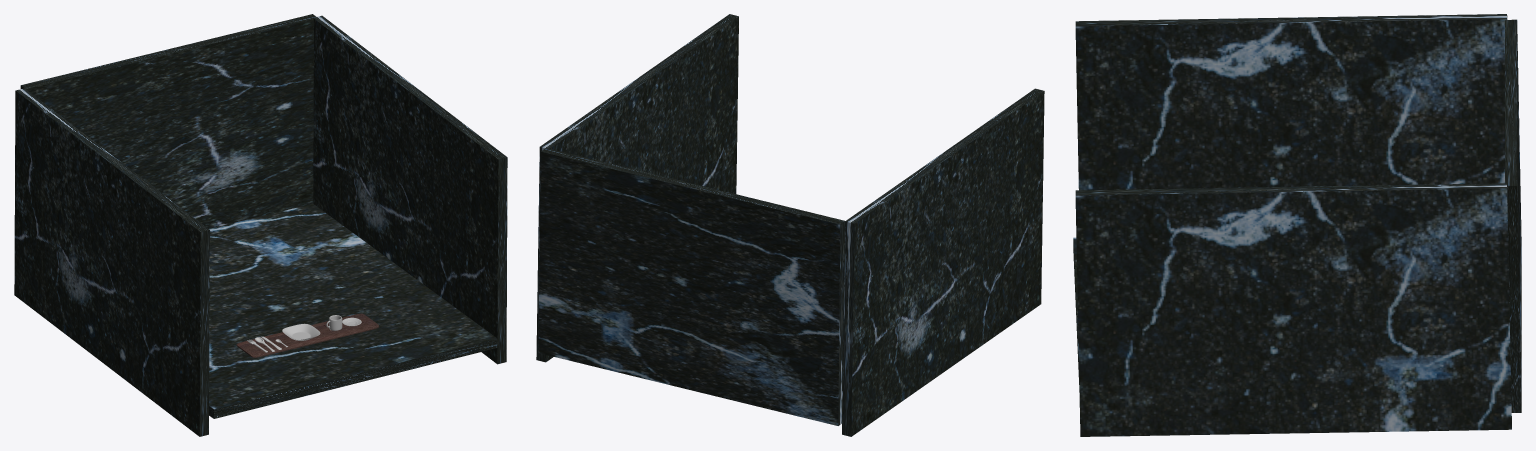
Rendered from Juego 2.fbx.
3 renders of one model, left to right at view 1: azimuth 30°, elevation 25°; view 2: azimuth 150°, elevation 25°; view 3: azimuth 270°, elevation 25°, orthographic. The views are drawn at different scales.
Parts seen in each view (by area): view 1: Cube.008, Cube.007, Cube.009, Cube.006, Cube.005, Plane; view 2: Cube.007, Cube.008, Cube.009; view 3: Cube.009, Cube.008, Cube.007.
Part boxes in pixels (x1,y1,x2,y2): Cube.008: (14, 88, 209, 436); Cube.007: (20, 14, 316, 228); Cube.009: (313, 15, 507, 364); Cube.006: (209, 204, 497, 418); Cube.005: (236, 313, 378, 357); Plane: (282, 323, 320, 340); Cube.007: (538, 148, 845, 425); Cube.008: (842, 88, 1044, 436); Cube.009: (536, 14, 738, 362); Cube.009: (1075, 183, 1511, 436); Cube.008: (1075, 14, 1507, 190); Cube.007: (1505, 19, 1521, 412).
Bounding box in the file's own units: 3834 × 2531 × 4148.
4 materials, 2 textured.
